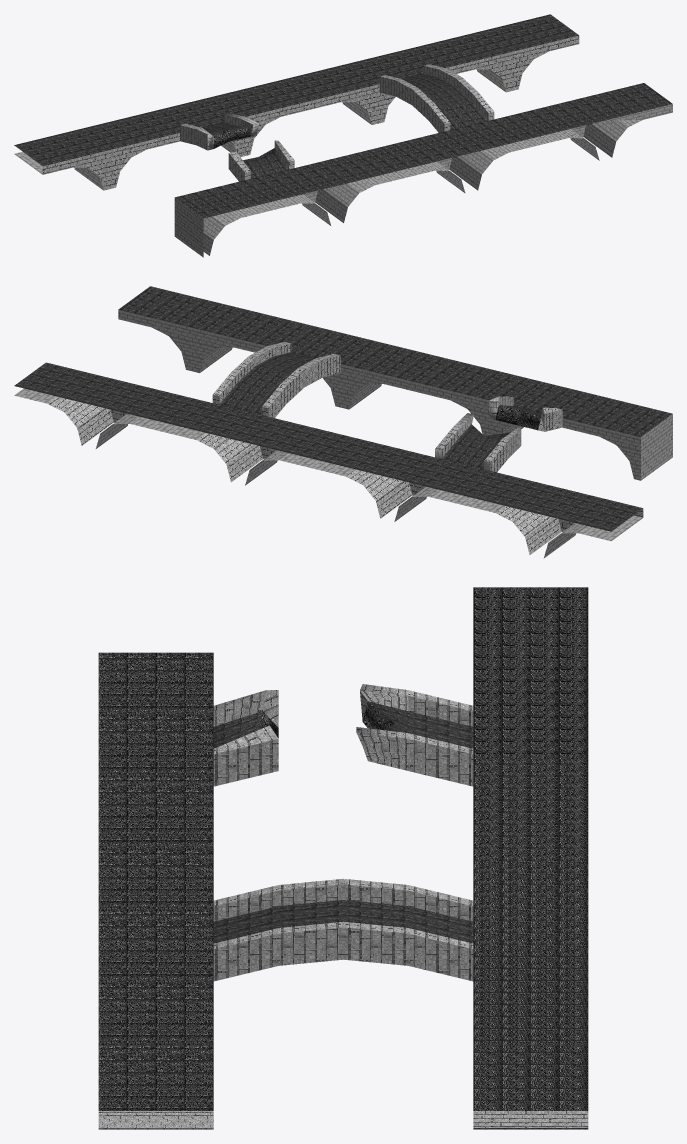
File: bridges.glb
3 views of the same model, one above another, from view 1: azimuth 30°, elevation 25°; view 2: azimuth 150°, elevation 25°; view 3: azimuth 270°, elevation 25° (orthographic). The views are drawn at different scales.
Parts seen in each view (by area): view 1: Cube.002, Cube.005, Plane.002, Plane.001, Plane.003; view 2: Cube.002, Cube.005, Plane.002, Plane.001, Plane.003; view 3: Cube.002, Cube.005, Plane.002, Plane.001, Plane.003.
Part boxes in pixels (box(x1,y1,x2,y2)): Cube.002: box(14, 14, 579, 190); Cube.005: box(174, 83, 672, 257); Plane.002: box(379, 64, 494, 132); Plane.001: box(180, 113, 258, 150); Plane.003: box(228, 140, 294, 181); Cube.002: box(14, 362, 643, 558); Cube.005: box(118, 286, 672, 480); Plane.002: box(212, 342, 340, 418); Plane.001: box(435, 413, 521, 472); Plane.003: box(489, 396, 562, 431); Cube.002: box(473, 587, 588, 1129); Cube.005: box(98, 652, 213, 1129); Plane.002: box(213, 878, 473, 981); Plane.001: box(356, 684, 473, 786); Plane.003: box(213, 690, 278, 786).
Size of the model in its own units: 43 by 4.47 by 17.
2 materials, 2 textured.
